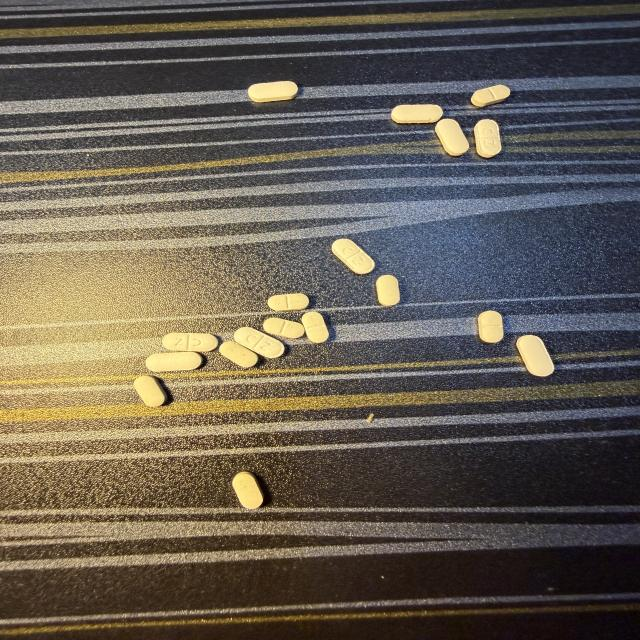pill: (234, 327, 284, 358), (517, 335, 554, 376), (332, 239, 374, 274), (435, 119, 469, 156), (146, 352, 202, 372), (233, 472, 263, 509), (163, 333, 218, 352), (249, 81, 298, 102), (134, 376, 167, 407), (474, 120, 501, 157), (219, 341, 257, 367), (391, 105, 442, 123), (301, 312, 328, 343), (263, 318, 304, 338), (471, 85, 510, 106), (478, 311, 503, 343), (376, 275, 399, 306), (268, 294, 309, 311), (366, 414, 373, 423)
